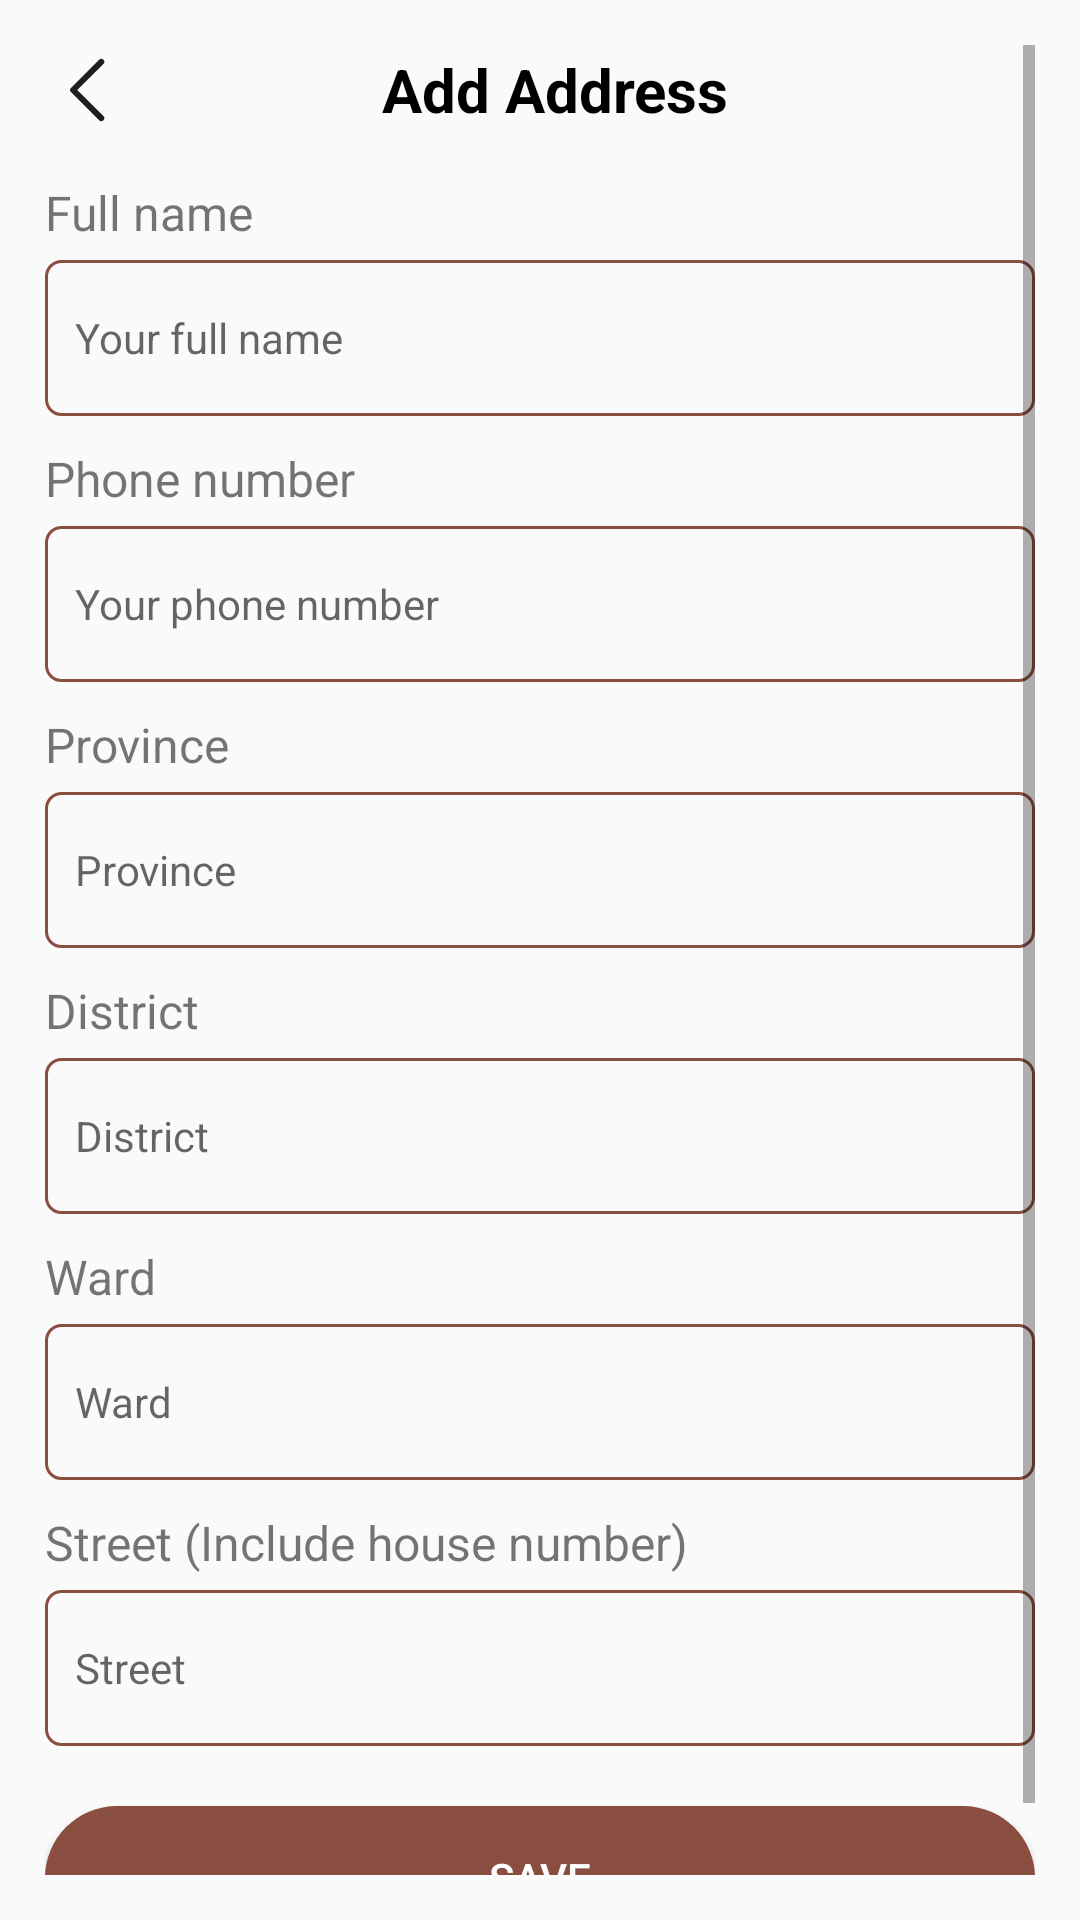

Icons on this 1080*1920 Android screen, each with its box as (left=x1, top=y1, right=x2, bottom=y2):
back: (left=70, top=58, right=105, bottom=122)
